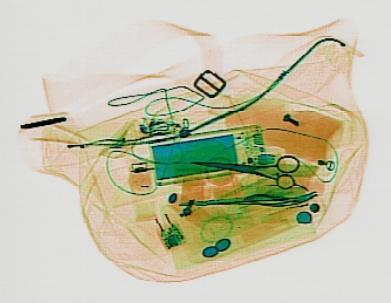Scissors: (187, 144, 300, 188)
